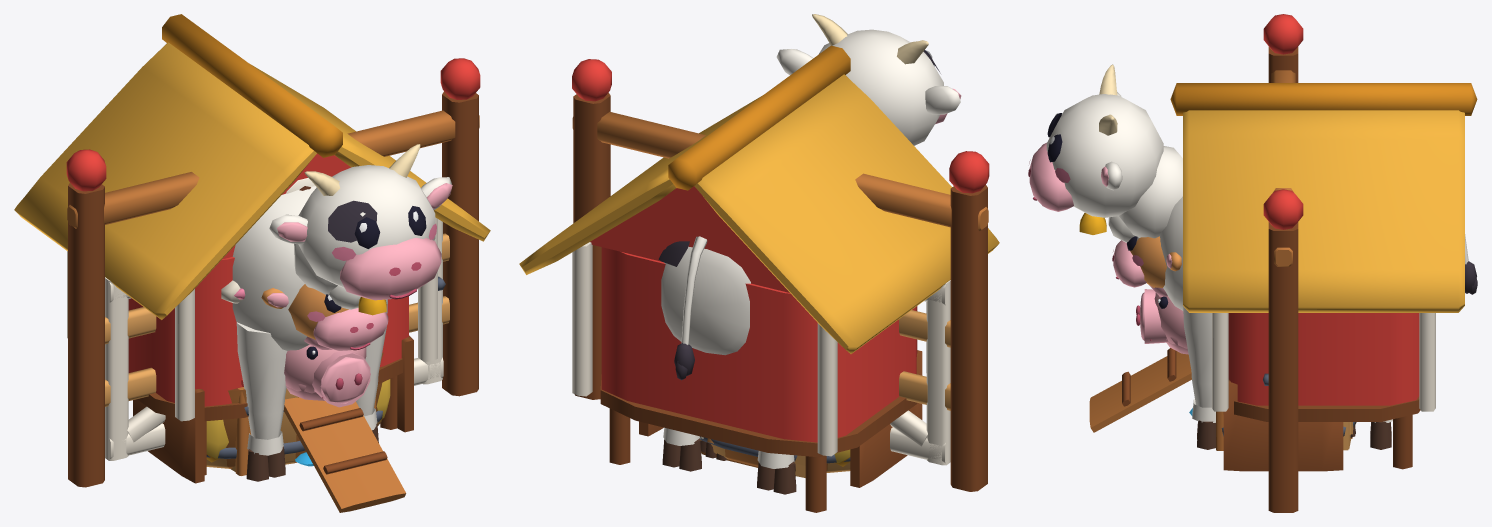
File: farm.glb
The picture shows the model from 3 angles, left to right: view 1: azimuth 30°, elevation 25°; view 2: azimuth 150°, elevation 25°; view 3: azimuth 270°, elevation 25°; orthographic projection. The views are drawn at different scales.
Parts seen in each view (by area): view 1: coop, pen_gate_frame, cow_head, cow_body, pen_gate_door, cow_leg_fl, calf_head, feed_trough, pig_head, pen_fence, water_trough, cow_leg_fr (+3 smaller); view 2: coop, pen_gate_frame, cow_head, cow_body, pen_gate_door, feed_trough, pen_fence, cow_tail, cow_leg_bl, cow_leg_br, water_trough; view 3: coop, cow_head, pen_gate_frame, feed_trough, cow_leg_fr, calf_head, pig_head, cow_body, cow_leg_br.
Boxes of the visible parts, x1,y1,x2,y2 form: coop: (14,14,490,512); pen_gate_frame: (66,58,480,487); cow_head: (269,144,452,315); cow_body: (232,186,316,350); pen_gate_door: (105,219,445,460); cow_leg_fl: (236,322,287,481); calf_head: (261,284,388,350); feed_trough: (133,335,413,483); pig_head: (284,345,370,407); pen_fence: (105,233,449,406); water_trough: (206,352,383,468); cow_leg_fr: (356,299,387,442); coop: (519,45,999,512); pen_gate_frame: (572,59,989,491); cow_head: (776,14,961,145); cow_body: (658,241,750,355); pen_gate_door: (890,280,950,465); feed_trough: (639,350,922,487); pen_fence: (899,310,950,410); cow_tail: (674,236,707,380); cow_leg_bl: (757,451,796,494); cow_leg_br: (662,427,701,471); water_trough: (700,436,850,472); coop: (1089,83,1477,469); cow_head: (1028,64,1182,242); pen_gate_frame: (1263,14,1303,512); feed_trough: (1223,379,1343,471); cow_leg_fr: (1183,306,1215,449); calf_head: (1112,236,1181,287); pig_head: (1136,289,1188,354); cow_body: (1160,196,1183,310); cow_leg_br: (1370,419,1392,449).
Bounding box in the file's own units: 2.19 × 1.78 × 2.17.
